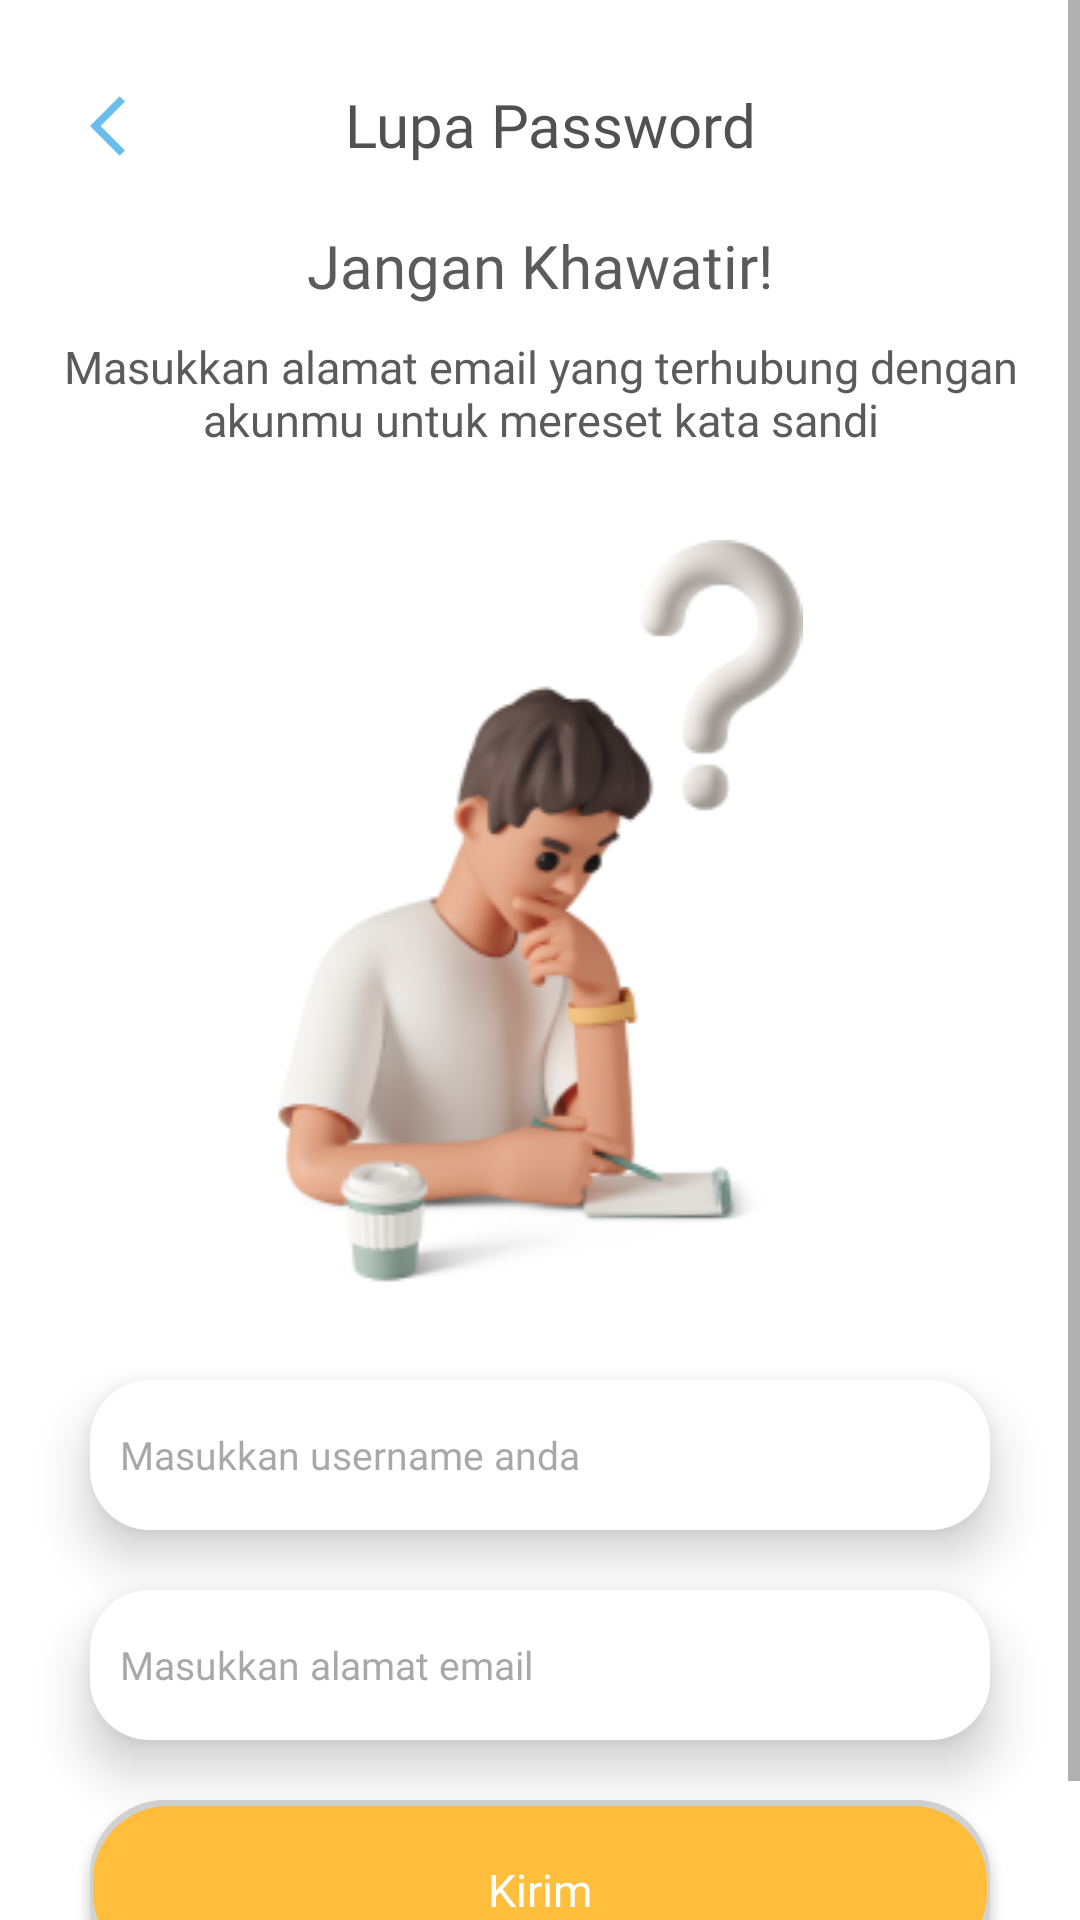

Icons on this 1080w x 1920h Android screen, each with the point to tap as [x,y]:
arrowback: [107,126]
